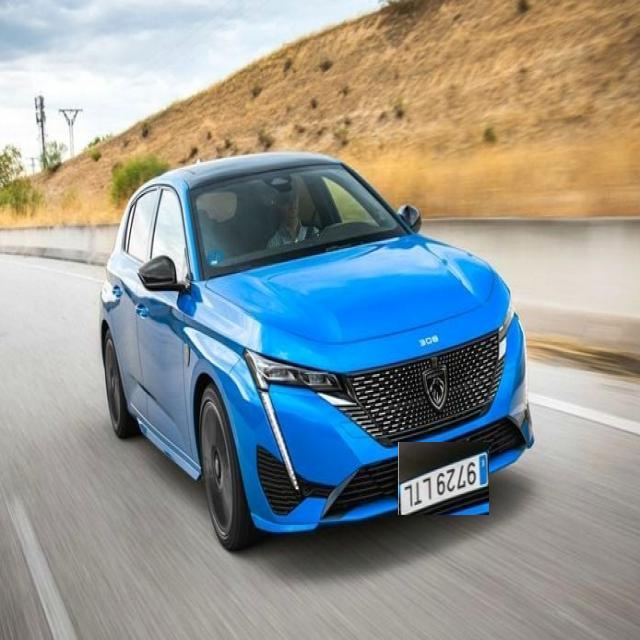License-Plate: (398, 442, 489, 516)
